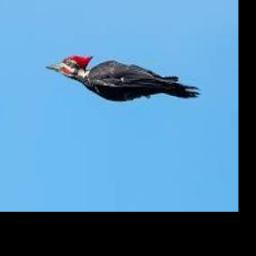Woodpecker: (47, 54, 201, 102)
